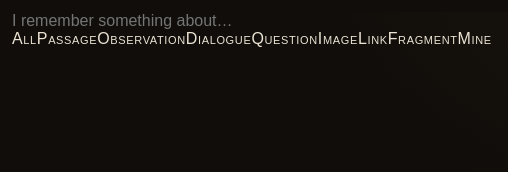
ForageView › narrows by kind with no query at all
Click the button "Question" at (285, 39), box [251,30,318,48]
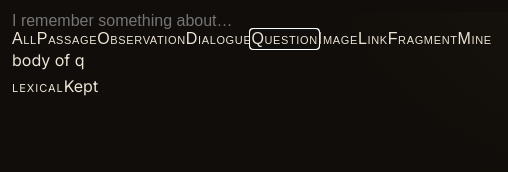
expect the text "body of q" is shown: met, box [12,50,85,70]
